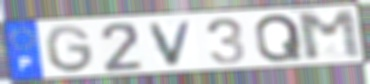2: (98, 20, 147, 74)
3: (205, 17, 245, 65)
G: (43, 24, 96, 75)
M: (294, 8, 366, 63)
Q: (253, 12, 306, 64)
V: (146, 19, 196, 68)
